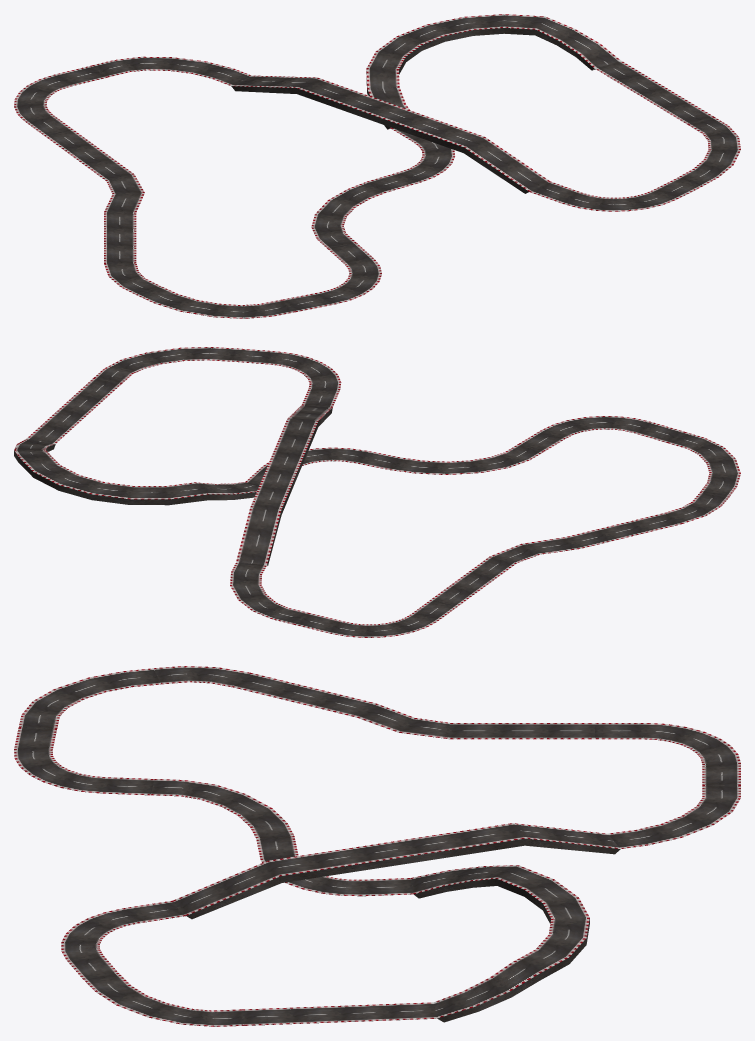
The model's file is road_all.FBX.
3 views of the same model, one above another, from view 1: azimuth 30°, elevation 25°; view 2: azimuth 150°, elevation 25°; view 3: azimuth 270°, elevation 25° (orthographic). The views are drawn at different scales.
Parts seen in each view (by area): view 1: Box019; view 2: Box019; view 3: Box019.
Part boxes in pixels (x1,y1,x2,y2): Box019: (14, 14, 740, 318); Box019: (14, 347, 740, 637); Box019: (14, 666, 740, 1026).
Bounding box in the file's own units: 13879 × 530 × 11820.
